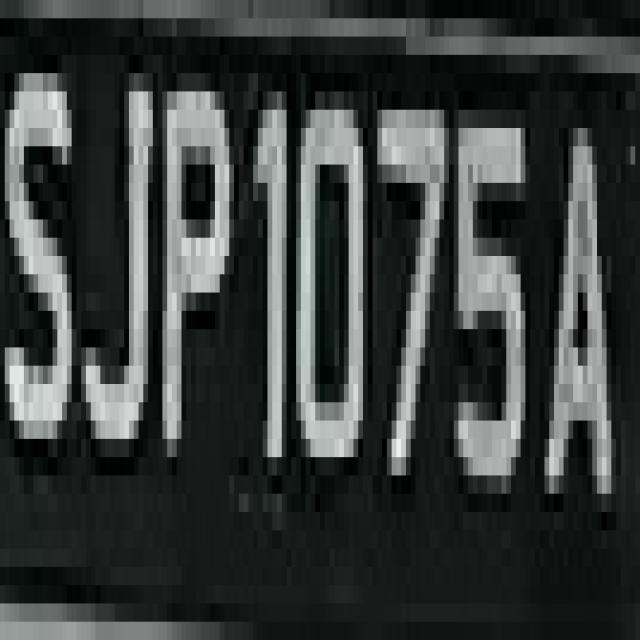0: (296, 55, 373, 530)
1: (248, 73, 296, 476)
5: (444, 37, 535, 530)
7: (363, 36, 454, 494)
A: (530, 73, 631, 585)
J: (67, 18, 153, 476)
P: (153, 0, 239, 494)
S: (0, 0, 81, 457)
